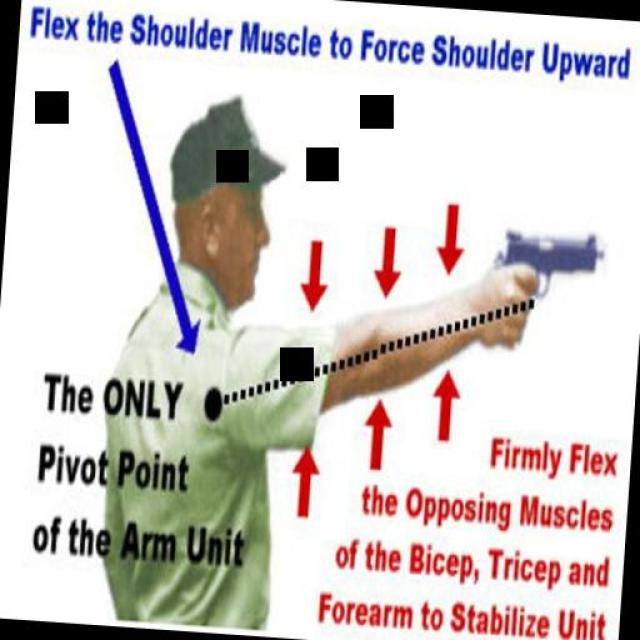gun: (477, 215, 602, 366)
